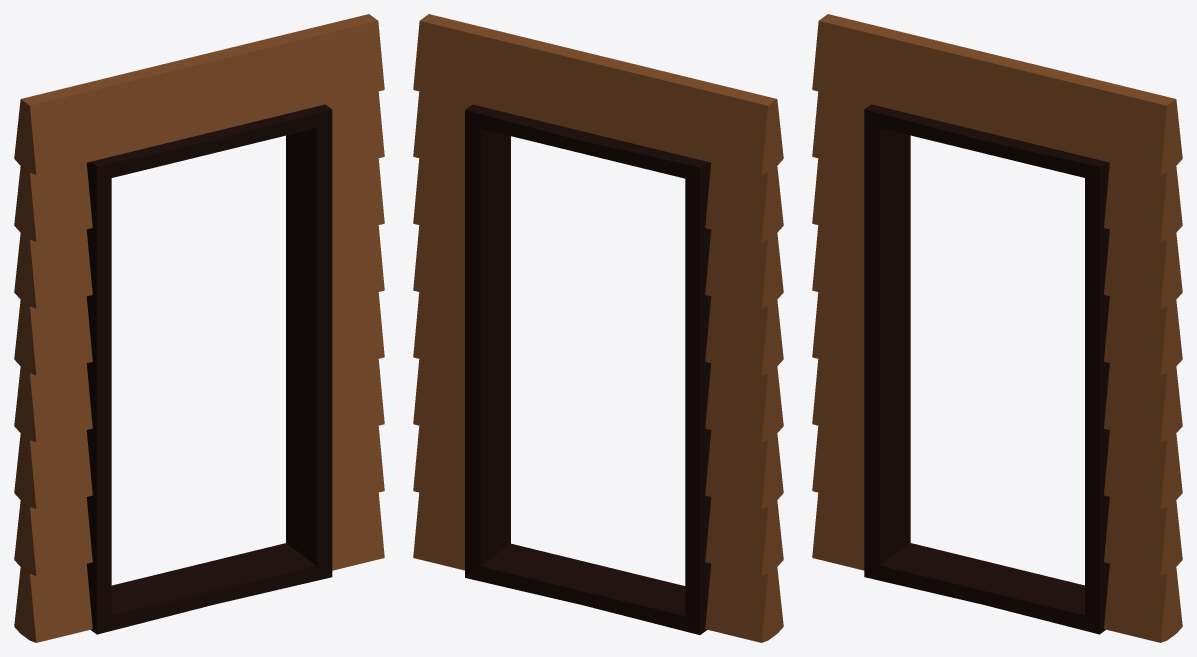
Rendered from ww_small_door_a.glb.
3 views of the same model, side by side, from view 1: azimuth 30°, elevation 25°; view 2: azimuth 150°, elevation 25°; view 3: azimuth 330°, elevation 25° (orthographic).
Parts seen in each view (by area): view 1: Small_Door_A; view 2: Small_Door_A; view 3: Small_Door_A.
Boxes of the visible parts, bbox=[...] form: Small_Door_A: bbox=[14, 14, 384, 642]; Small_Door_A: bbox=[413, 14, 783, 642]; Small_Door_A: bbox=[812, 14, 1182, 642].
Bounding box in the file's own units: 2.4 × 3.52 × 0.3743.
